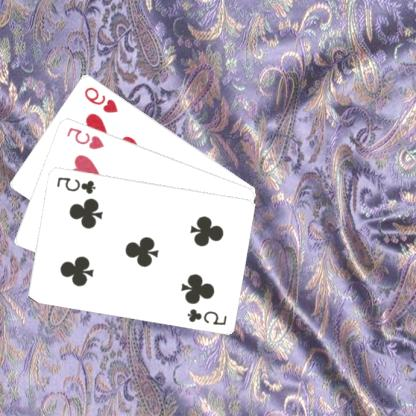5C: (56, 174, 98, 195), (186, 306, 230, 326)
5H: (65, 124, 107, 151)
9H: (83, 84, 121, 114)
